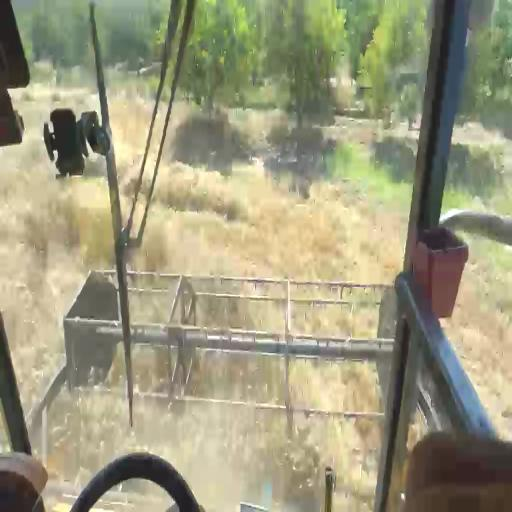arpa: (0, 149, 114, 401), (132, 164, 356, 277)
